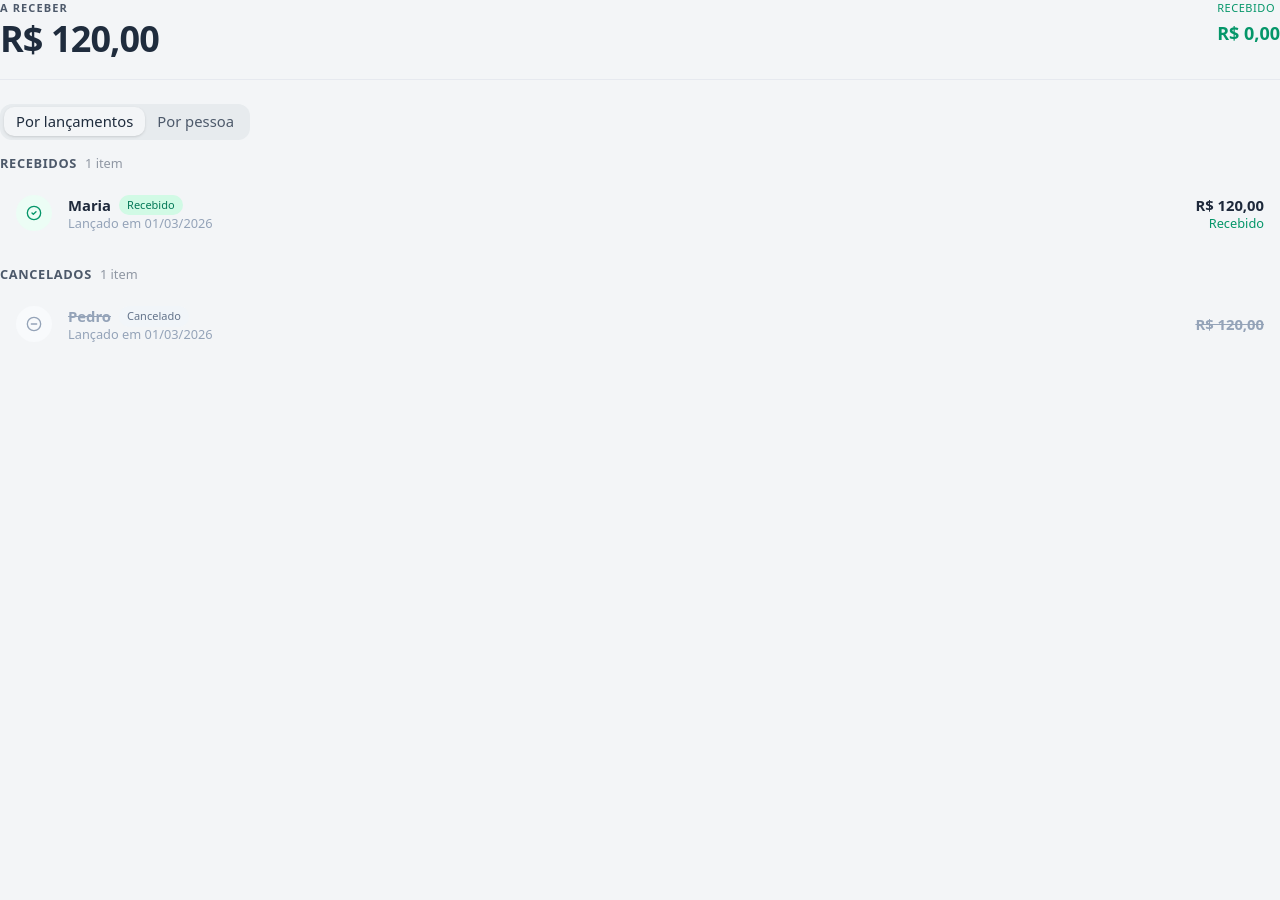
Test: ReimbursementsView › shows received and canceled dates inside the reimbursement drawer
This screenshot has width=1280, height=900.
Expected: the text "Maria" is shown, [68, 195, 111, 216]
Click the button "Maria Recebido Lançado em 01/03/2026 R$ 120,00 Recebido" at (34, 213), box [0, 183, 1279, 243]
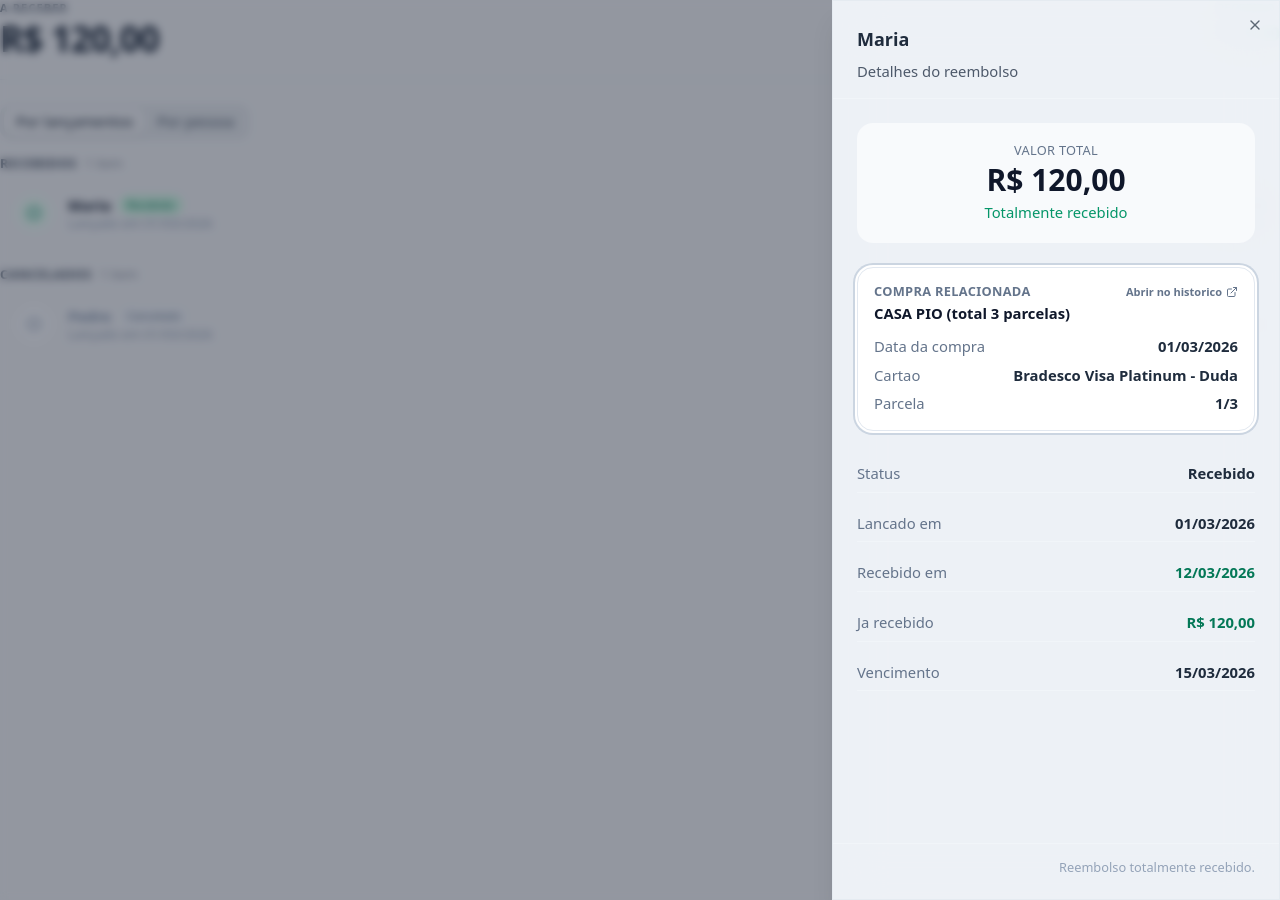
Now the text "Recebido em" is shown, box [857, 562, 947, 583]
Now the text "12/03/2026" is shown, box [1175, 562, 1255, 583]
Press Escape
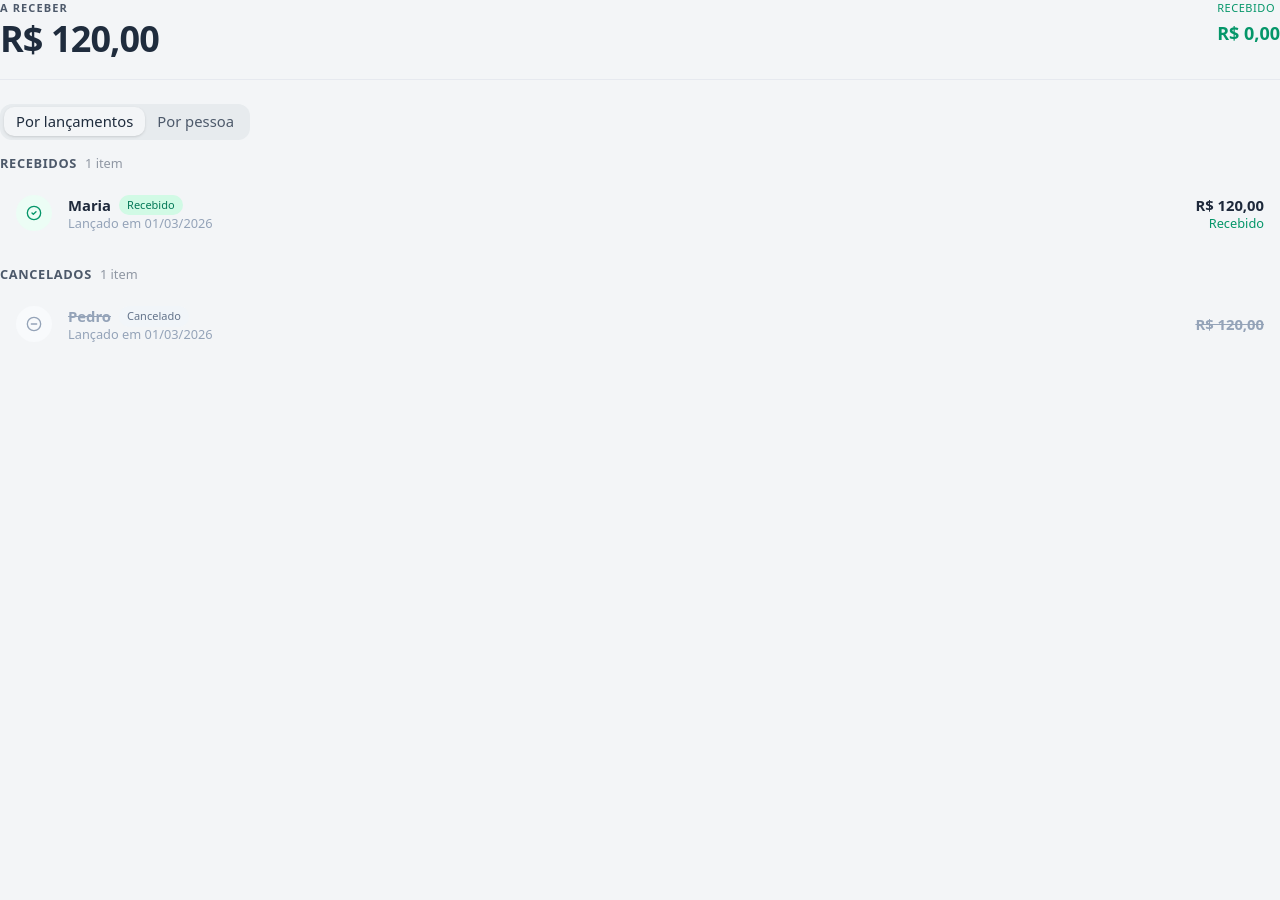
Click the button "Pedro Cancelado Lançado em 01/03/2026 R$ 120,00" at (34, 324), box [0, 294, 1279, 354]
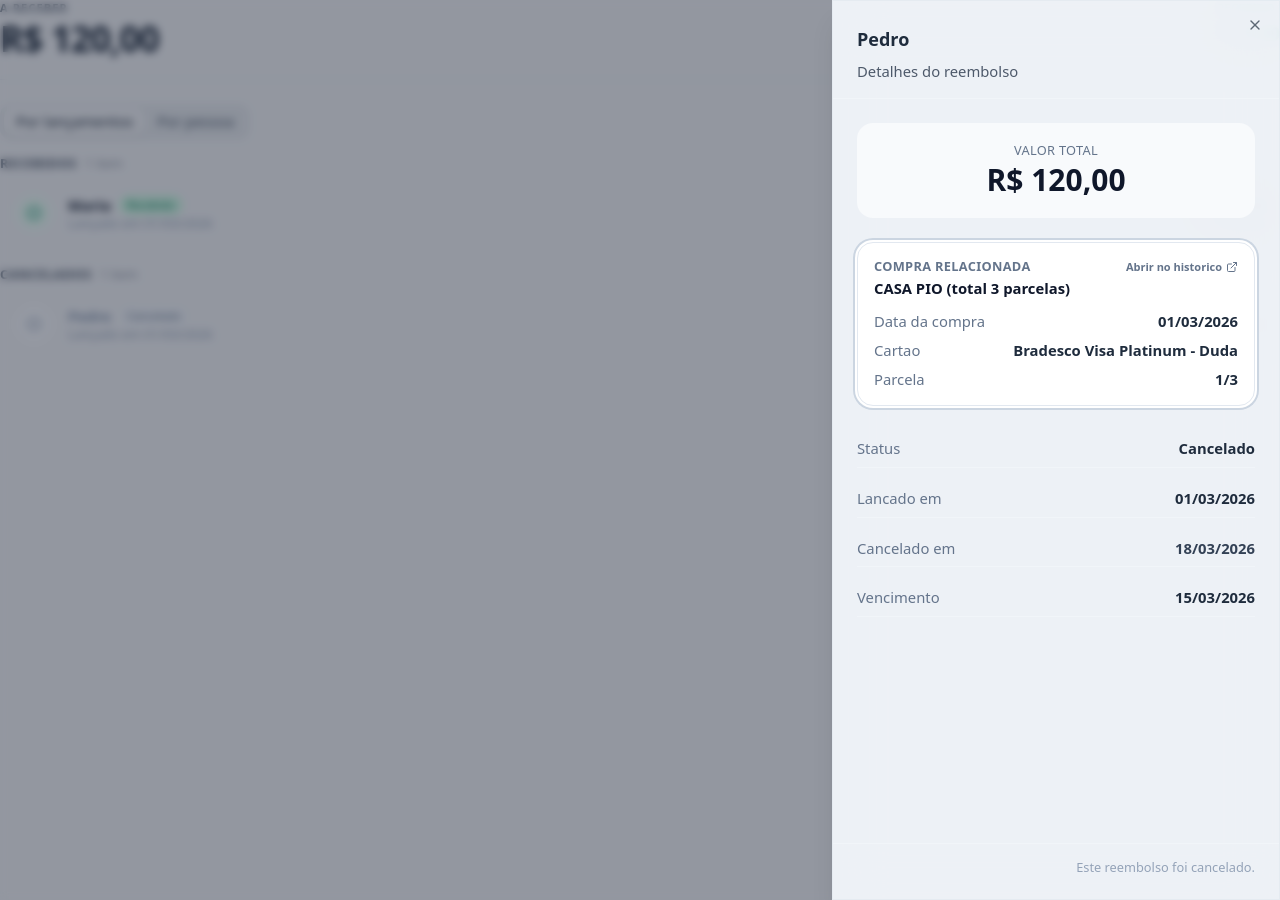
Now the text "Cancelado em" is shown, box [857, 538, 956, 558]
Now the text "18/03/2026" is shown, box [1175, 538, 1255, 558]
